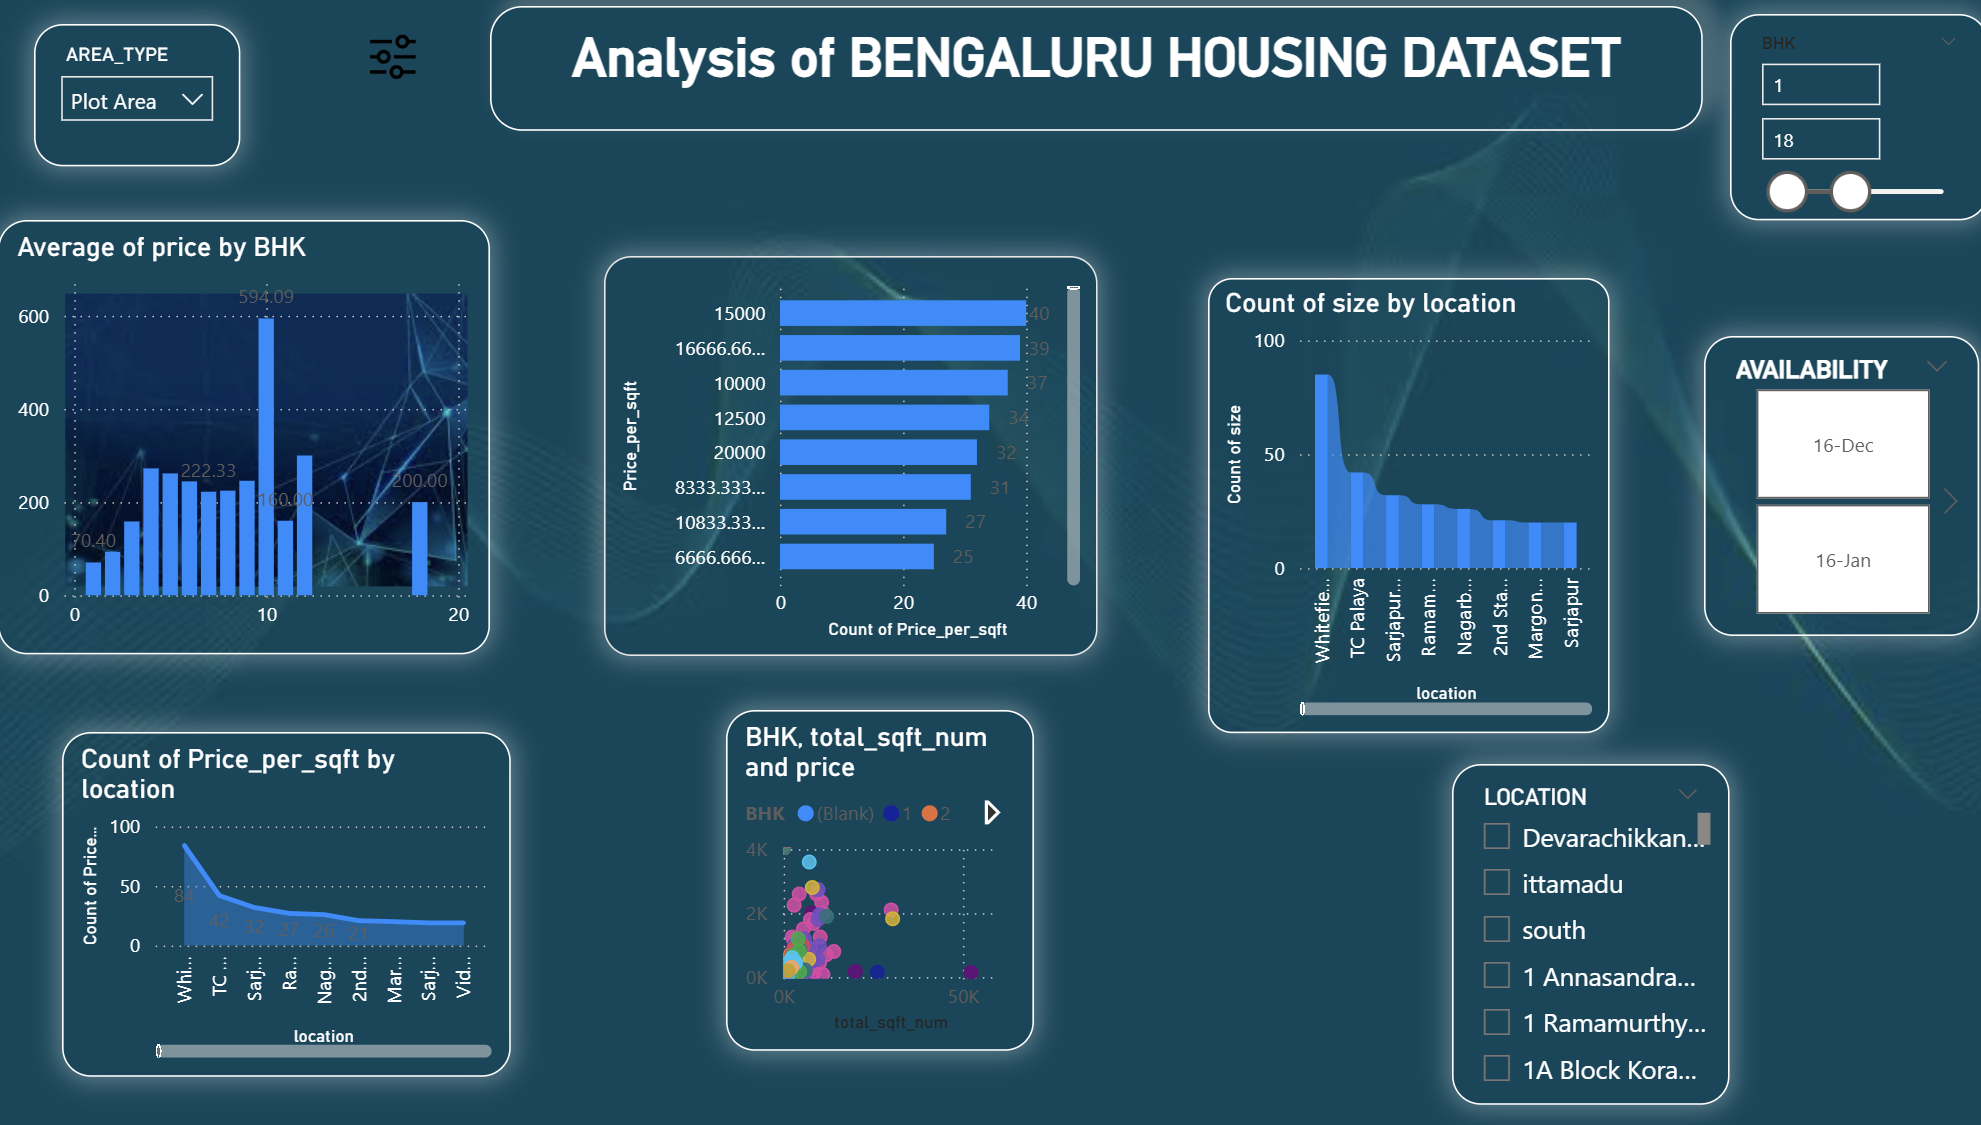

The dashboard page shown, as its layout file describes it:
{"tool":"powerbi","page":{"name":"Dashboard","canvas":[1280,720],"ordinal":0},"visuals":[{"type":"textbox","box":[309,10.5,758.2,78],"z":2000},{"type":"clusteredColumnChart","fields":{"Category":["Bengaluru_House_Data_new.BHK"],"Y":["Avg(Bengaluru_House_Data_new.price)"]},"box":[1.3,144.1,307.3,271.6],"z":3000},{"type":"clusteredBarChart","fields":{"Category":["Bengaluru_House_Data_new.Price_per_sqft"],"Y":["CountNonNull(Bengaluru_House_Data_new.Price_per_sqft)"]},"box":[379.9,165.7,308.5,249.9],"z":4000},{"type":"ribbonChart","fields":{"Category":["Bengaluru_House_Data_new.location"],"Y":["CountNonNull(Bengaluru_House_Data_new.size)"]},"box":[757.3,179.8,251.2,284.3],"z":5000},{"type":"stackedAreaChart","fields":{"Category":["Bengaluru_House_Data_new.location"],"Y":["CountNonNull(Bengaluru_House_Data_new.Price_per_sqft)"]},"box":[40.8,464.1,280.5,215.5],"z":6000},{"type":"scatterChart","fields":{"X":["Bengaluru_House_Data_new.total_sqft_num"],"Y":["Bengaluru_House_Data_new.price"],"Series":["Bengaluru_House_Data_new.BHK"]},"box":[456.4,450,192.5,212.9],"z":7000},{"type":"slicer","fields":{"Values":["Bengaluru_House_Data_new.location"]},"box":[910.3,483.2,173.4,212.9],"z":8000},{"type":"slicer","fields":{"Values":["Bengaluru_House_Data_new.BHK"]},"box":[1083.8,15,161.2,128.8],"z":9000},{"type":"slicer","fields":{"Values":["Bengaluru_House_Data_new.area_type"]},"box":[24.2,21.7,128.8,89.2],"z":10000},{"type":"slicer","fields":{"Values":["Bengaluru_House_Data_new.availability"]},"box":[1067.1,216.7,172.1,187.4],"z":11000}]}

Visuals, with their boxes in screenshot pixels (x1, y1, x2, y2), scaled from the page's 1280x720 canvas onto the 1981x1125 screenshot:
textbox: box=[478, 16, 1652, 138]
clusteredColumnChart - Bengaluru_House_Data_new.BHK x Avg(Bengaluru_House_Data_new.price): box=[2, 225, 478, 650]
clusteredBarChart - Bengaluru_House_Data_new.Price_per_sqft x CountNonNull(Bengaluru_House_Data_new.Price_per_sqft): box=[588, 259, 1065, 649]
ribbonChart - Bengaluru_House_Data_new.location x CountNonNull(Bengaluru_House_Data_new.size): box=[1172, 281, 1561, 725]
stackedAreaChart - Bengaluru_House_Data_new.location x CountNonNull(Bengaluru_House_Data_new.Price_per_sqft): box=[63, 725, 497, 1062]
scatterChart - Bengaluru_House_Data_new.total_sqft_num x Bengaluru_House_Data_new.price: box=[706, 703, 1004, 1036]
slicer - Bengaluru_House_Data_new.location: box=[1409, 755, 1677, 1088]
slicer - Bengaluru_House_Data_new.BHK: box=[1677, 23, 1927, 225]
slicer - Bengaluru_House_Data_new.area_type: box=[37, 34, 237, 173]
slicer - Bengaluru_House_Data_new.availability: box=[1652, 339, 1918, 631]
